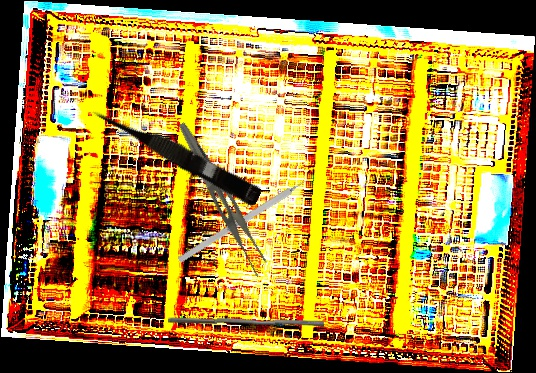Dressing Forceps: (161, 121, 279, 279)
Hook Surgical: (177, 171, 318, 264)
Micro Scissor: (88, 98, 265, 208)
Pusher: (167, 314, 325, 330)
